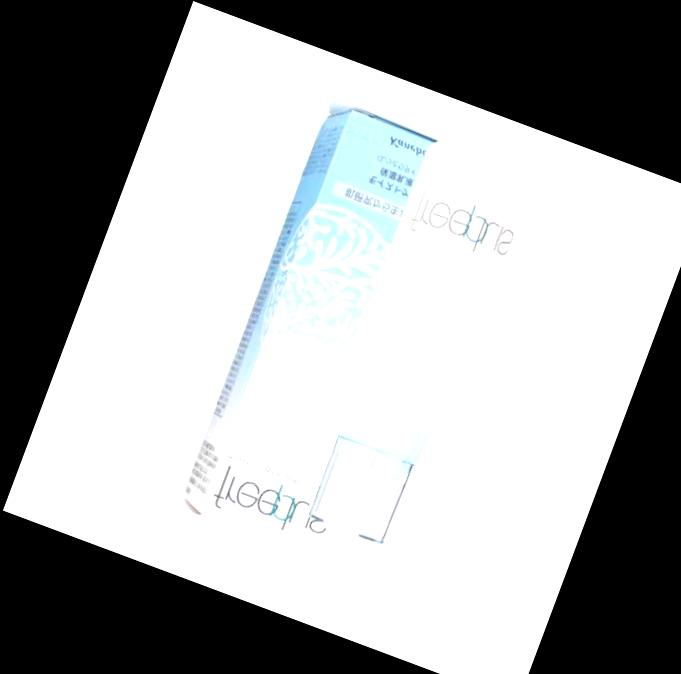cosmetic: (287, 131, 545, 555)
